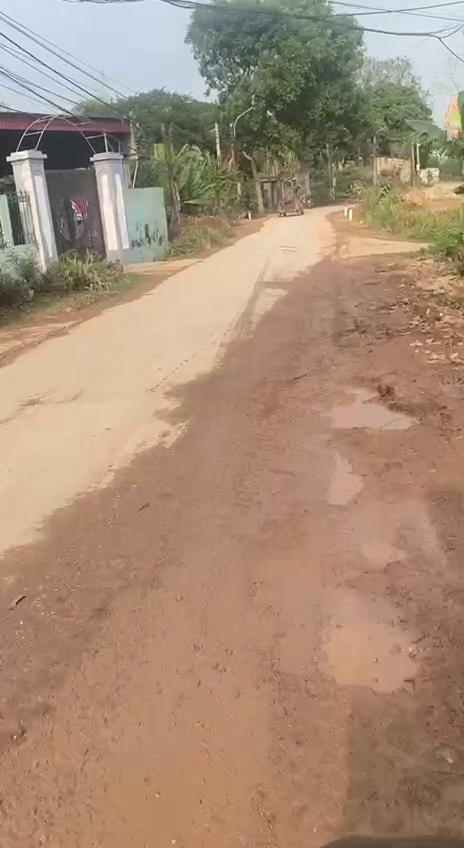pothole: (302, 610, 422, 696), (316, 382, 422, 434), (324, 446, 364, 508), (356, 536, 408, 566)
